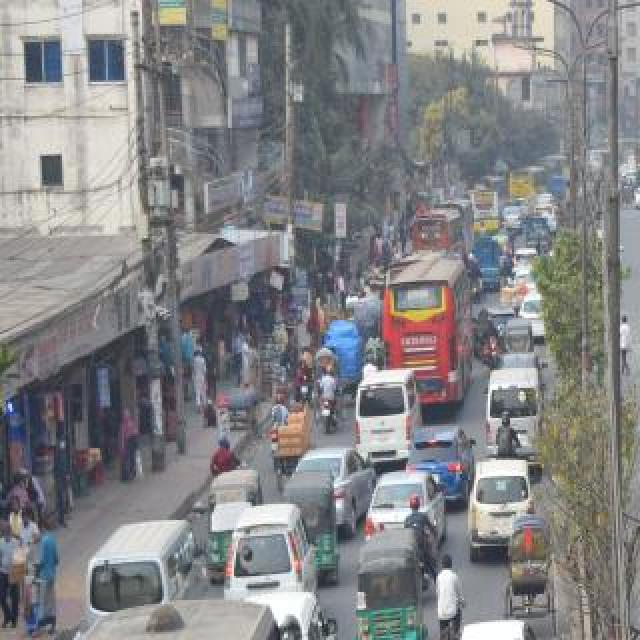bus: (0, 546, 310, 640), (365, 237, 483, 433), (391, 194, 469, 262), (458, 170, 512, 246), (429, 179, 483, 247), (377, 234, 441, 290), (503, 151, 551, 211)
car: (215, 488, 333, 610), (463, 444, 565, 570), (287, 435, 385, 545), (234, 540, 334, 640), (358, 454, 460, 552), (402, 419, 490, 499), (404, 598, 564, 640), (489, 335, 553, 391), (513, 283, 557, 361), (526, 188, 572, 258), (505, 237, 553, 299), (498, 200, 536, 250), (618, 176, 640, 228), (536, 183, 560, 209)
motorbike: (390, 488, 448, 598), (468, 303, 514, 387), (257, 384, 295, 472), (316, 364, 354, 446), (454, 238, 492, 318), (296, 324, 326, 418), (499, 234, 519, 290)
van: (66, 505, 232, 627), (478, 344, 556, 474), (344, 363, 432, 473), (470, 215, 514, 303), (516, 213, 558, 275)
